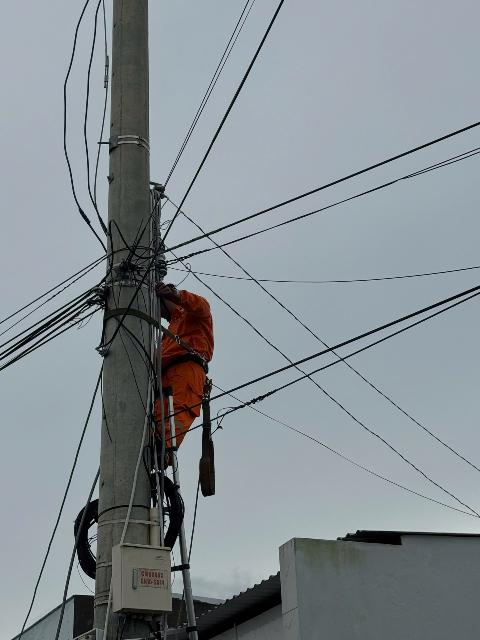gloves: (152, 280, 174, 300)
harness: (168, 331, 214, 378)
